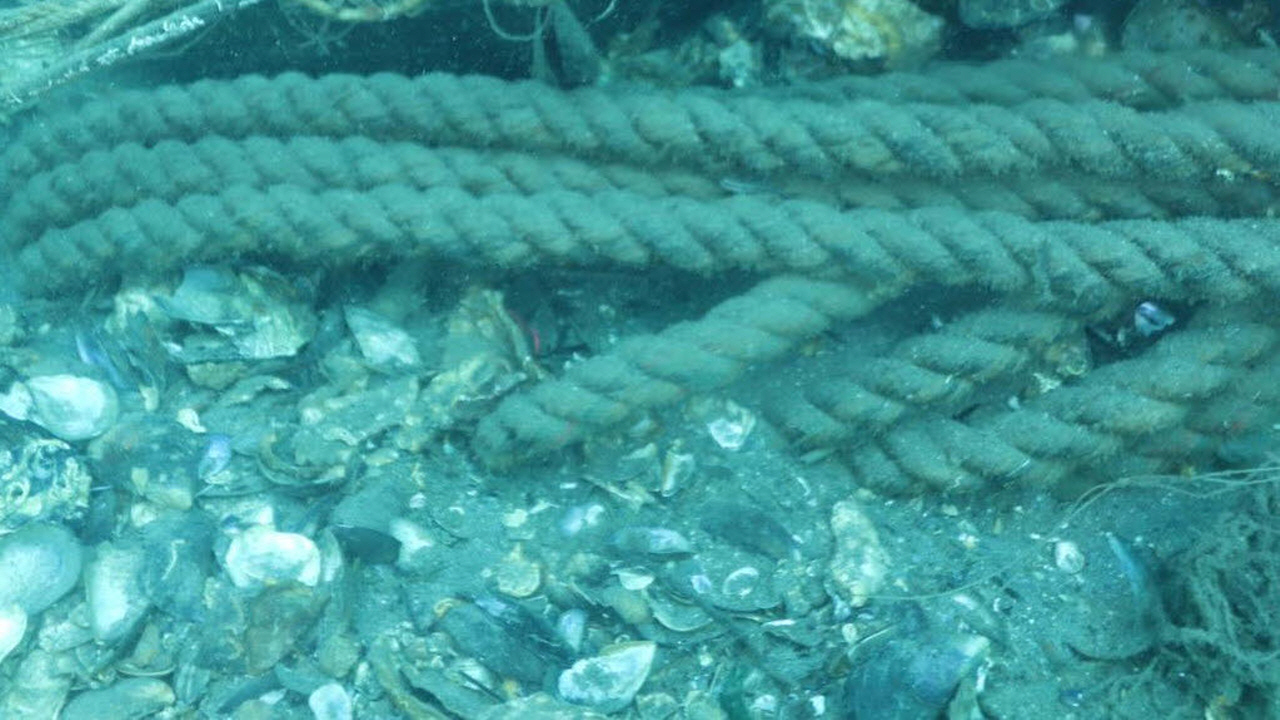bundle of ropes: (0, 45, 1279, 498)
